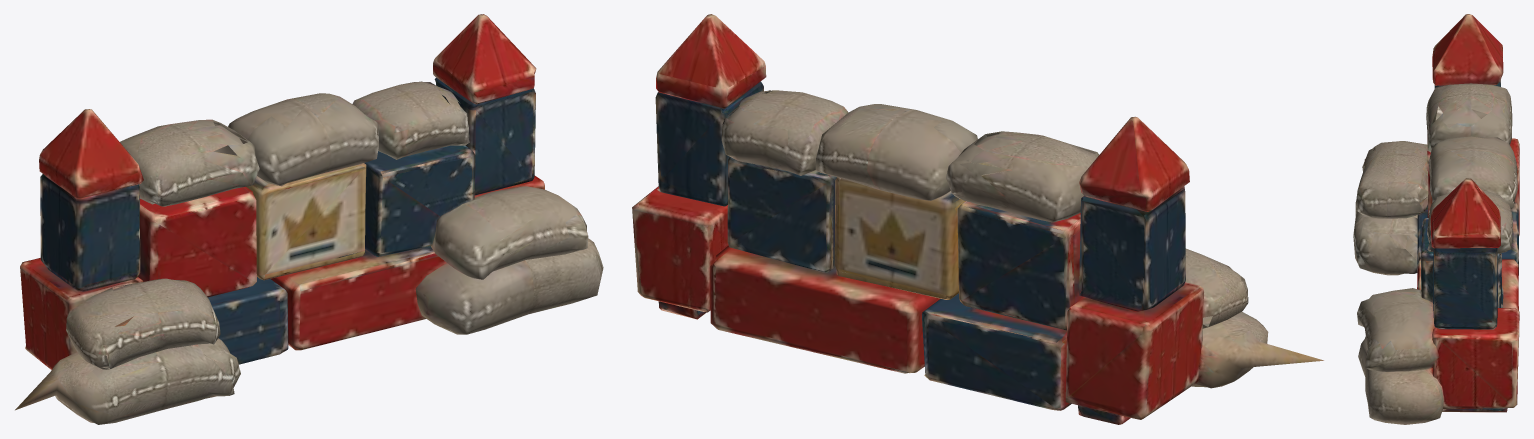
The model's file is prop_toy_trench.glb.
3 views of the same model, side by side, from view 1: azimuth 30°, elevation 25°; view 2: azimuth 150°, elevation 25°; view 3: azimuth 270°, elevation 25° (orthographic). The views are drawn at different scales.
Bounding box in the file's own units: 0.4751 × 0.2027 × 0.1347.
Materials: 1 (1 with a texture image).
